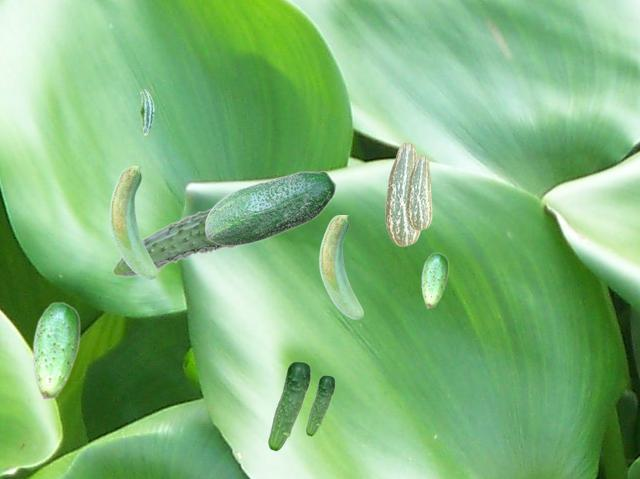cucumber: (204, 170, 336, 245), (112, 208, 239, 276), (109, 166, 156, 278), (32, 301, 79, 399), (319, 215, 362, 318), (267, 361, 310, 450), (385, 142, 420, 245), (406, 155, 431, 229), (305, 375, 334, 435), (421, 252, 447, 307), (140, 89, 153, 134)
